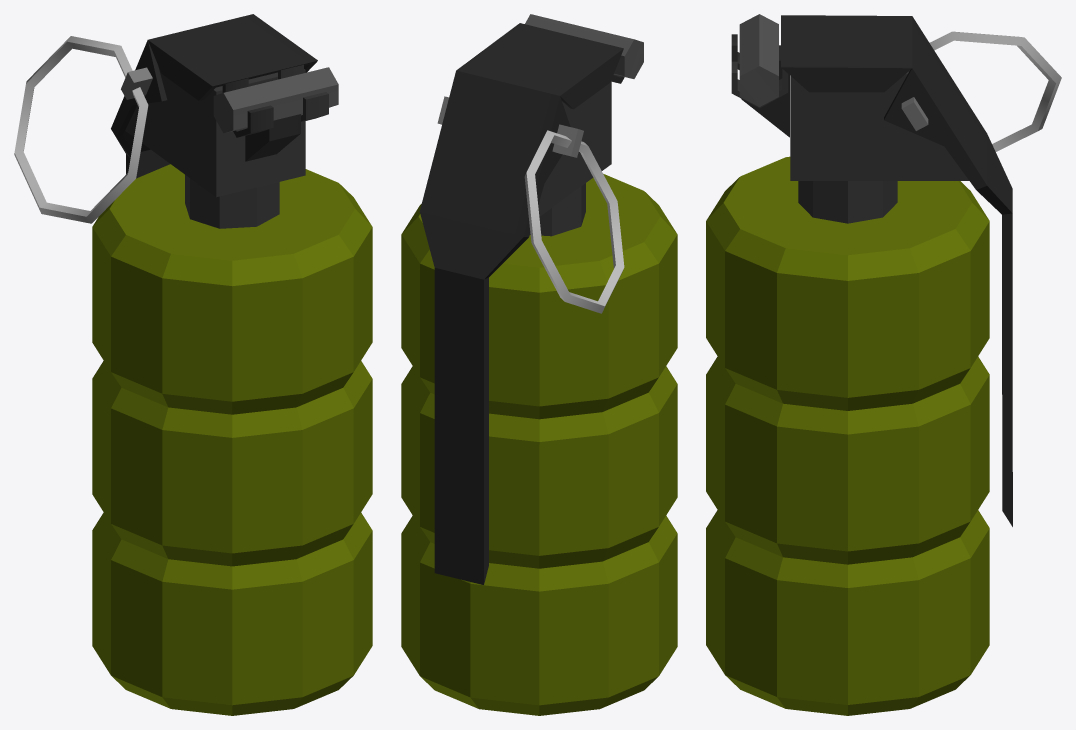
File: Concussive3.FBX
3 views of the same model, side by side, from view 1: azimuth 30°, elevation 25°; view 2: azimuth 150°, elevation 25°; view 3: azimuth 270°, elevation 25° (orthographic). The views are drawn at different scales.
Visible parts, largest first — view 1: Cylinder015, Sphere011, Object028, Object029; view 2: Cylinder015, Sphere011, Object028, Object029; view 3: Cylinder015, Sphere011, Object028.
Boxes of the visible parts, x1=… form: Cylinder015: x1=92, y1=164, x2=372, y2=715; Sphere011: x1=111, y1=14, x2=338, y2=228; Object028: x1=14, y1=36, x2=148, y2=223; Object029: x1=121, y1=67, x2=152, y2=99; Cylinder015: x1=401, y1=174, x2=677, y2=715; Sphere011: x1=419, y1=14, x2=643, y2=584; Object028: x1=524, y1=130, x2=624, y2=313; Object029: x1=437, y1=96, x2=583, y2=157; Cylinder015: x1=706, y1=156, x2=989, y2=715; Sphere011: x1=731, y1=14, x2=1012, y2=526; Object028: x1=929, y1=31, x2=1061, y2=151.
Size of the model in its own units: 0.1321 by 0.3097 by 0.1602.
